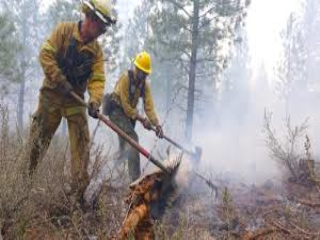smoke: (181, 30, 307, 203)
